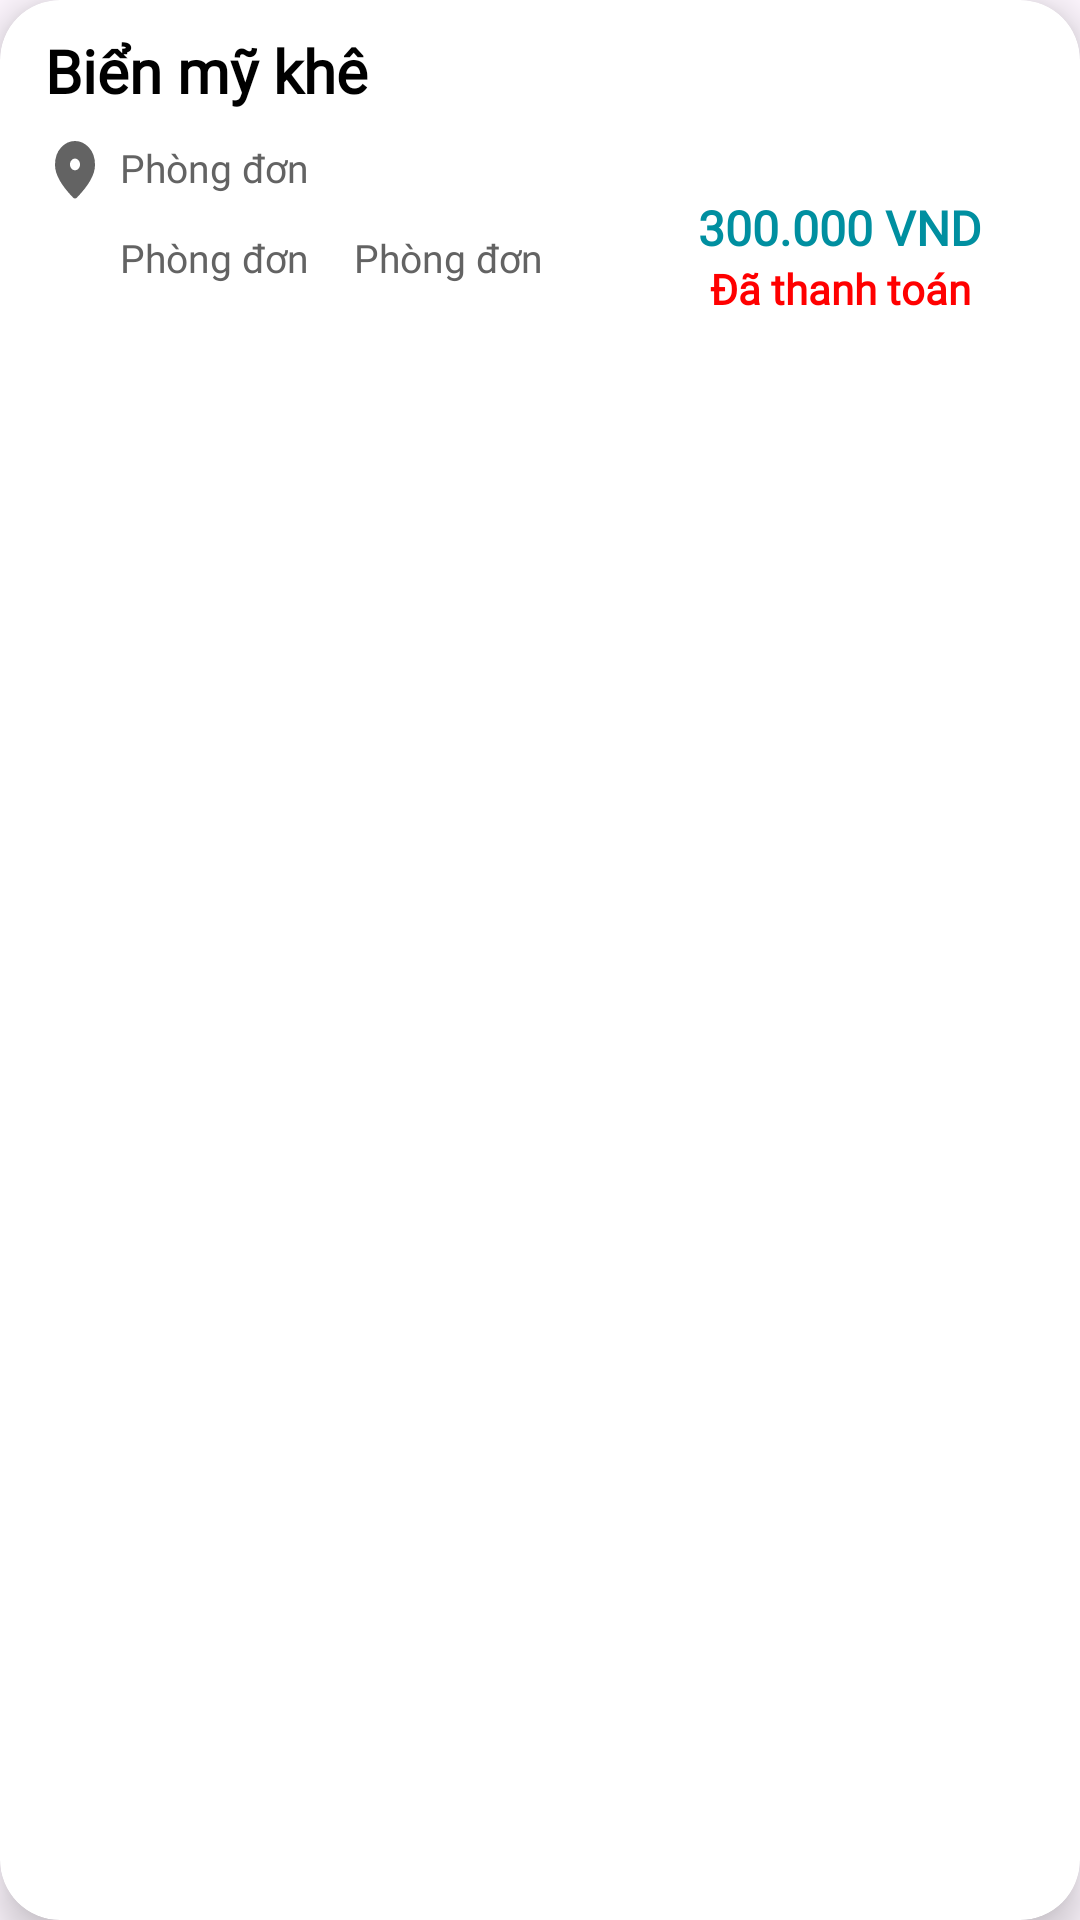

Named icons in this screenshot (1080px x 1920px) and their bounding boxes, detection(x1, y1, x2, y2):
location: detection(55, 141, 95, 199)
